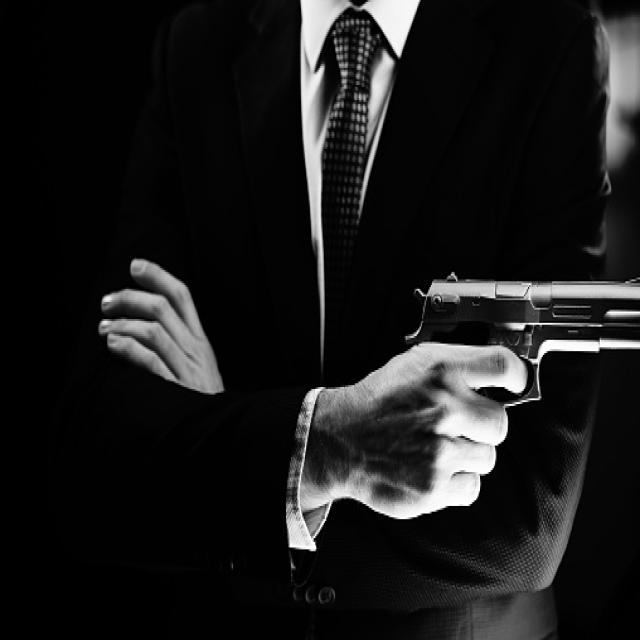HandGun: (404, 274, 640, 408)
